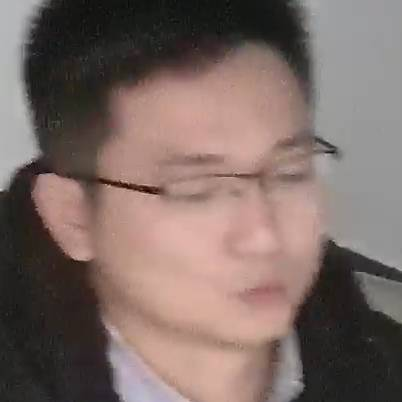gg: (37, 27, 354, 344)
